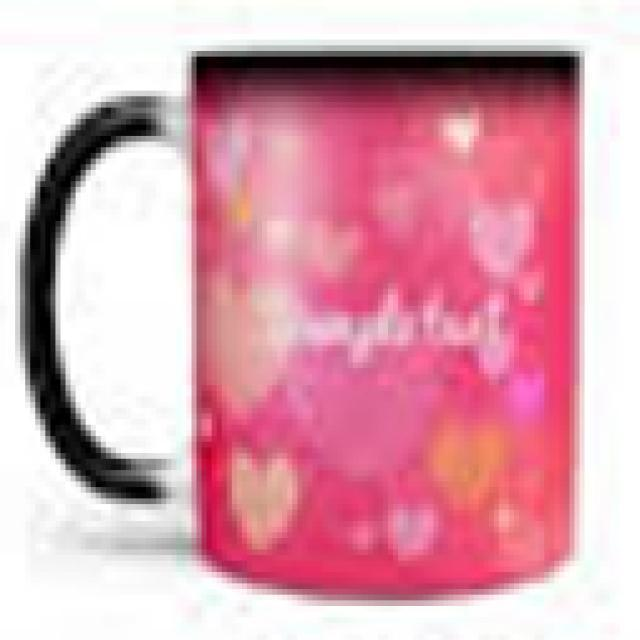taza: (21, 36, 588, 604)
